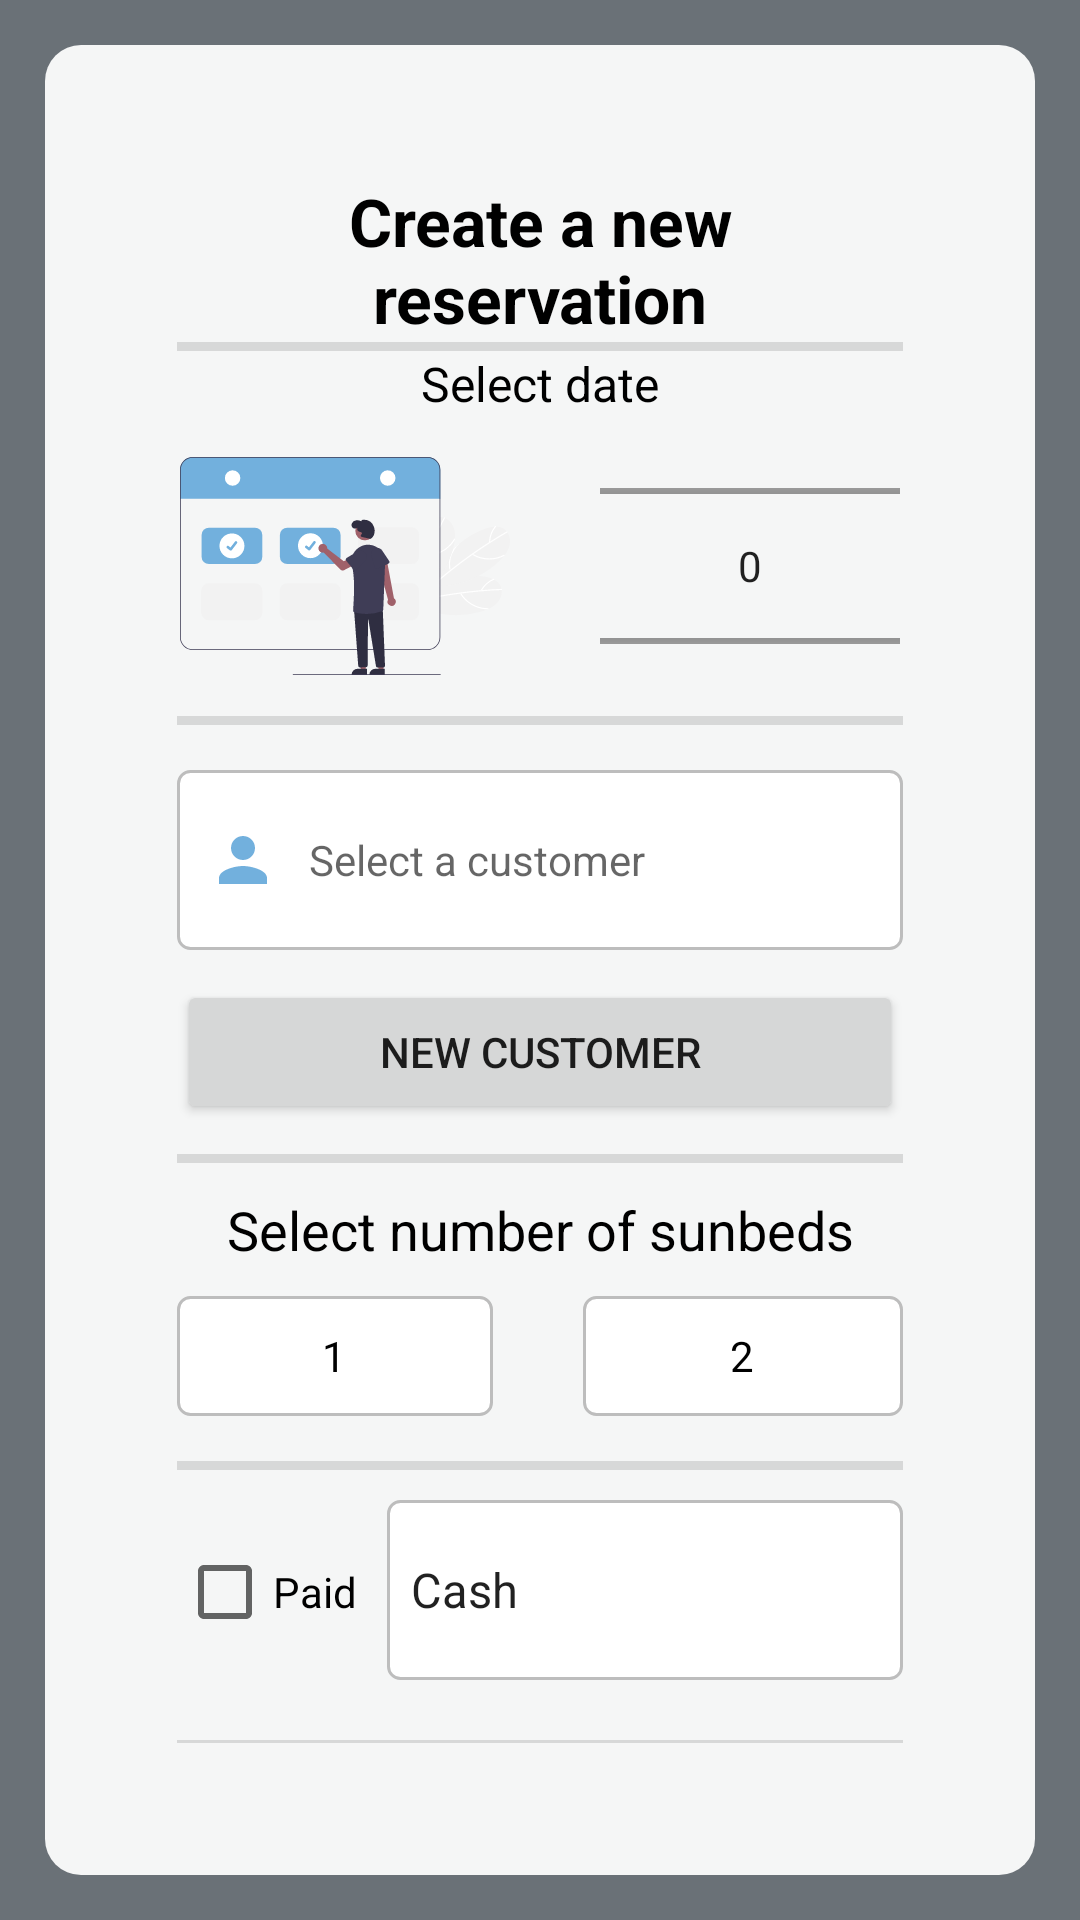

Point at icon controls on the screen. Image size 1080w x 1920h, points as (x=x, y=y).
img calendar: (x=310, y=566)
